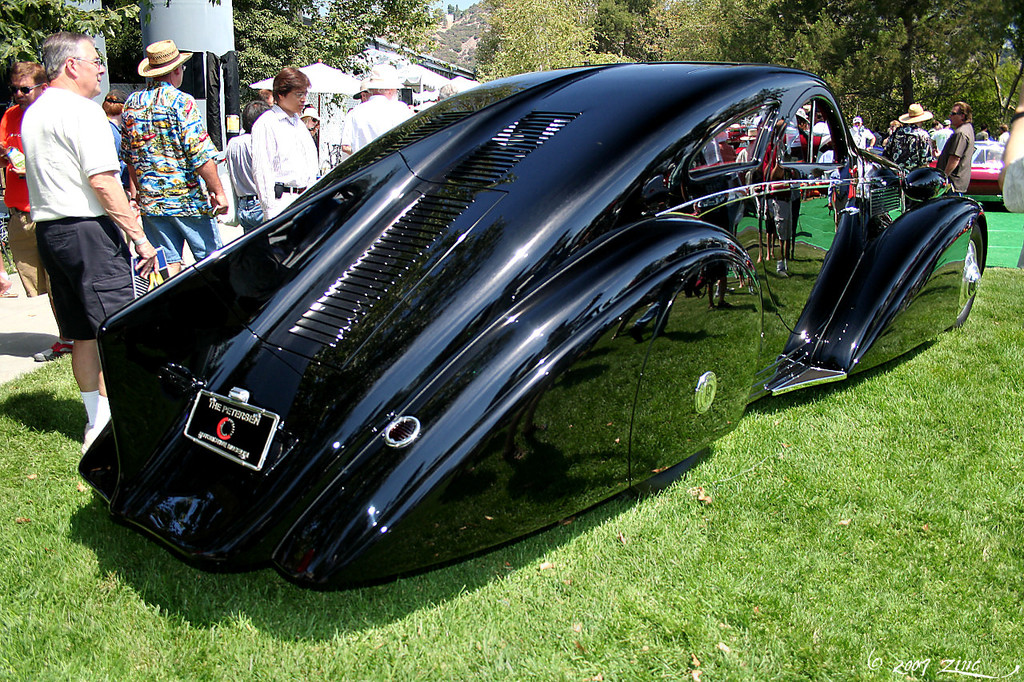Car: (74, 60, 1000, 602)
